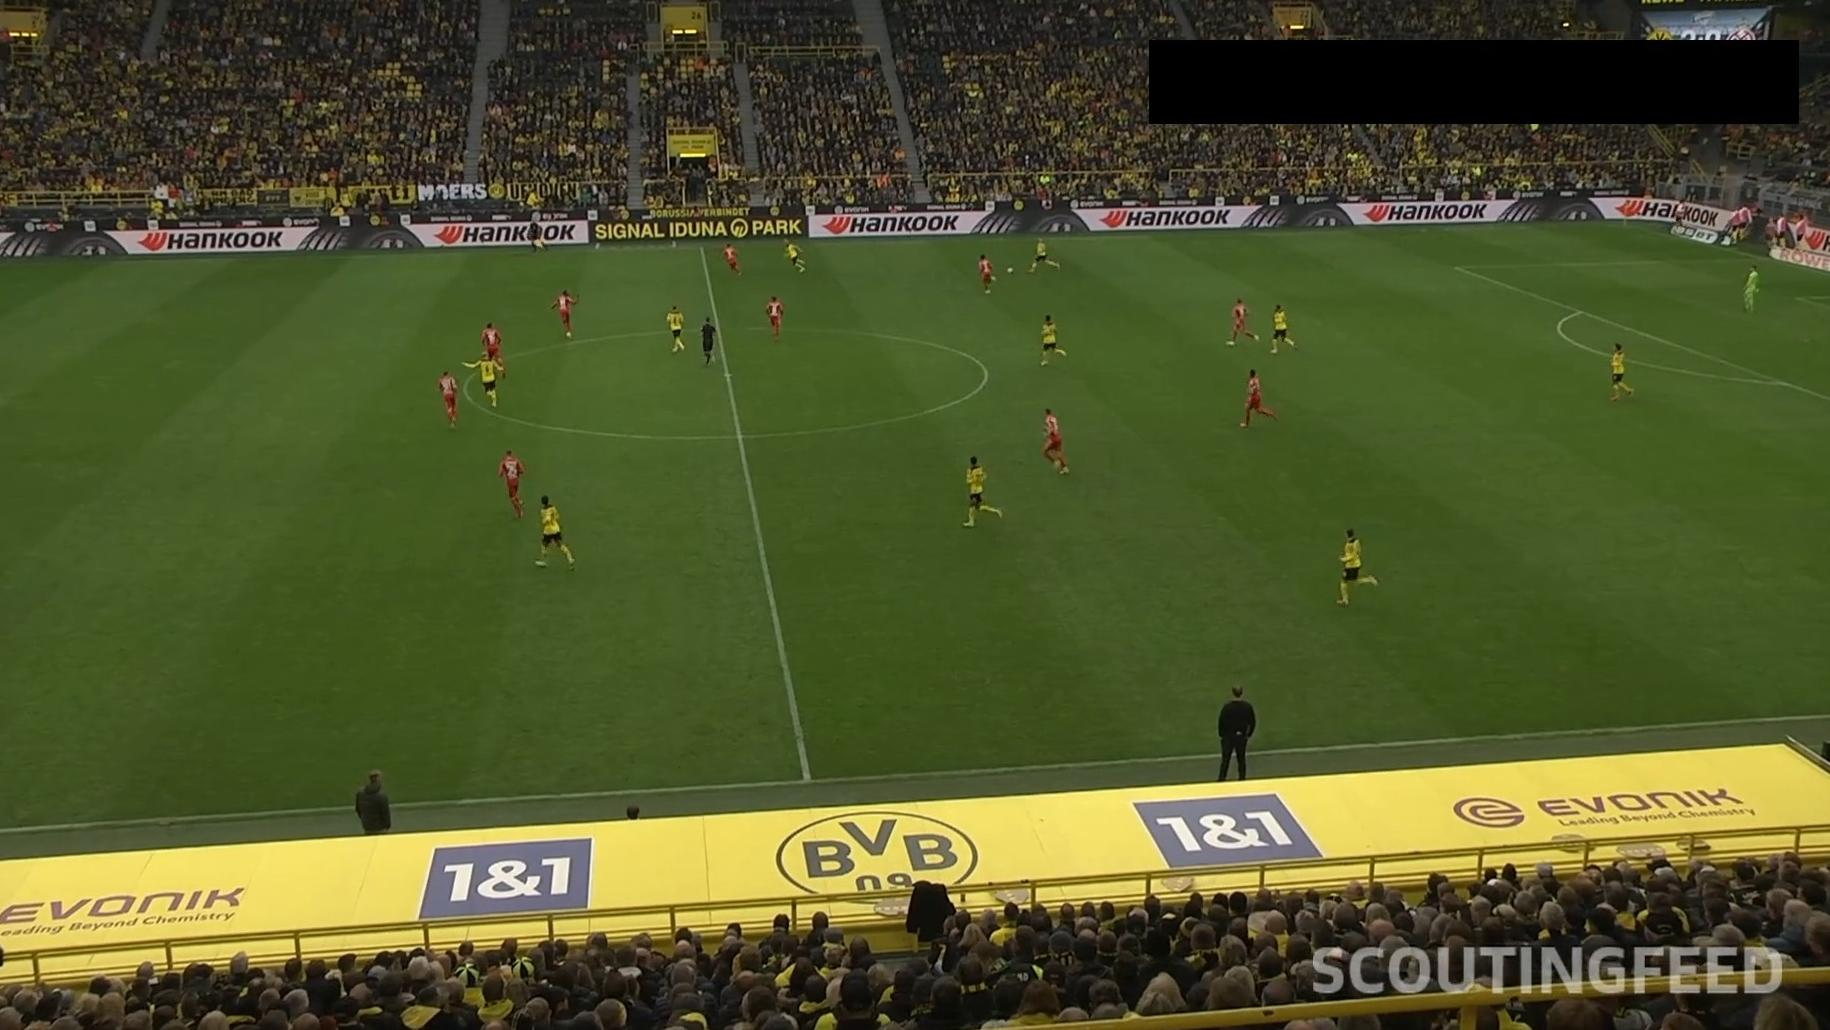ball: (1005, 265, 1014, 275)
